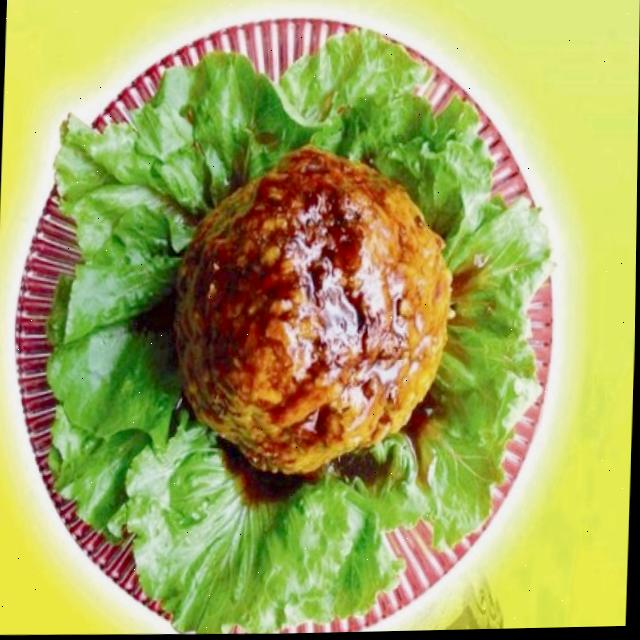猪肉菜式: (4, 4, 606, 640)
